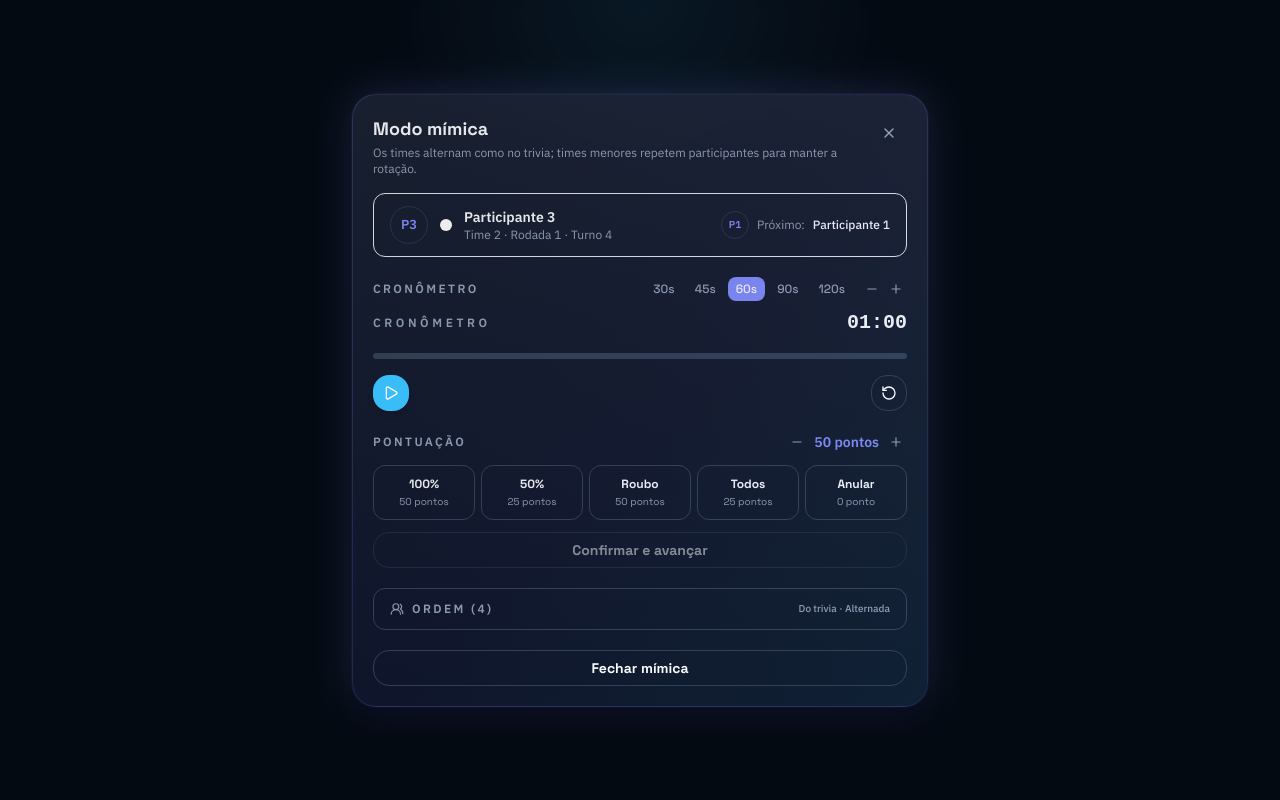
Scenario: MimicaModal › permite escolher claramente entre continuar do trivia e começar do primeiro
Check: the text with test id "mimica-active-participant" reads "Participante 3", box [464,208,556,226]
Click the text "Ordem (4)": (442, 608) [390,600,494,616]
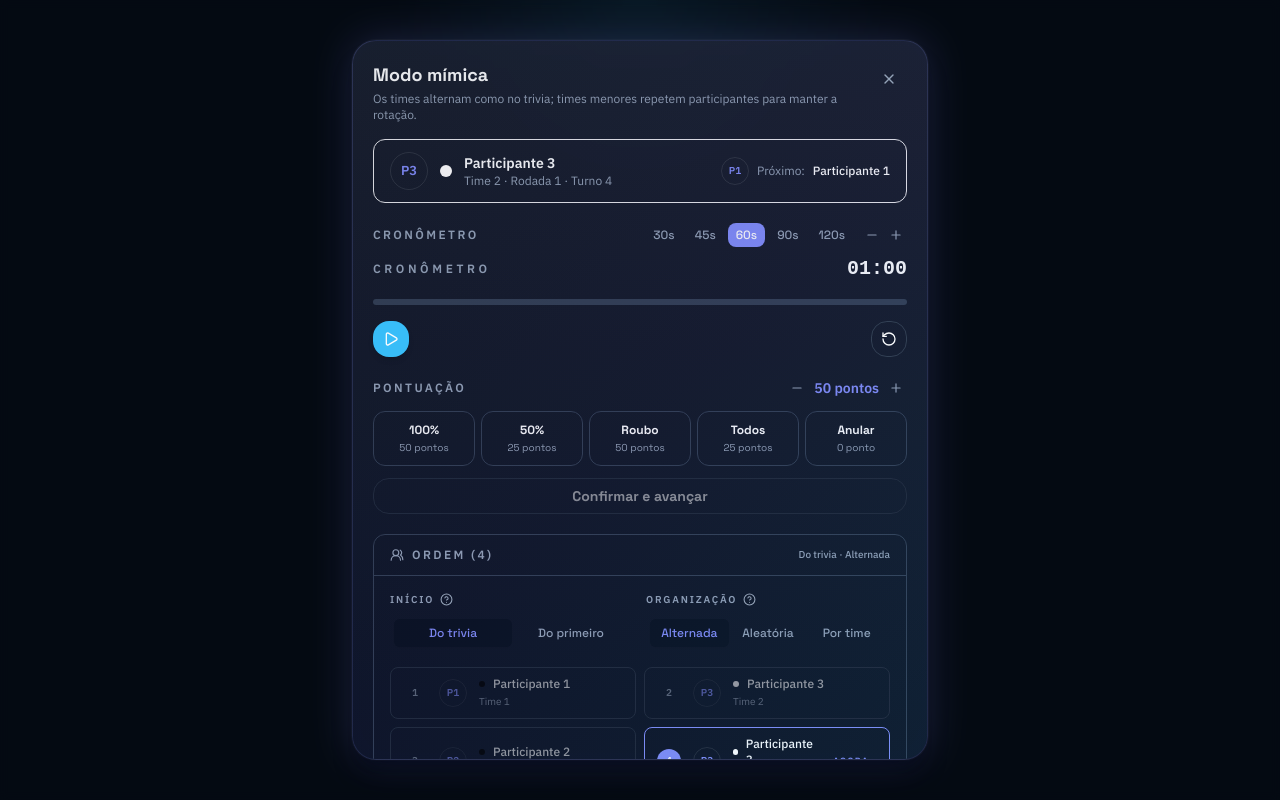
Click the button with aria-label "Começar do primeiro": (571, 633) [512,619,630,647]
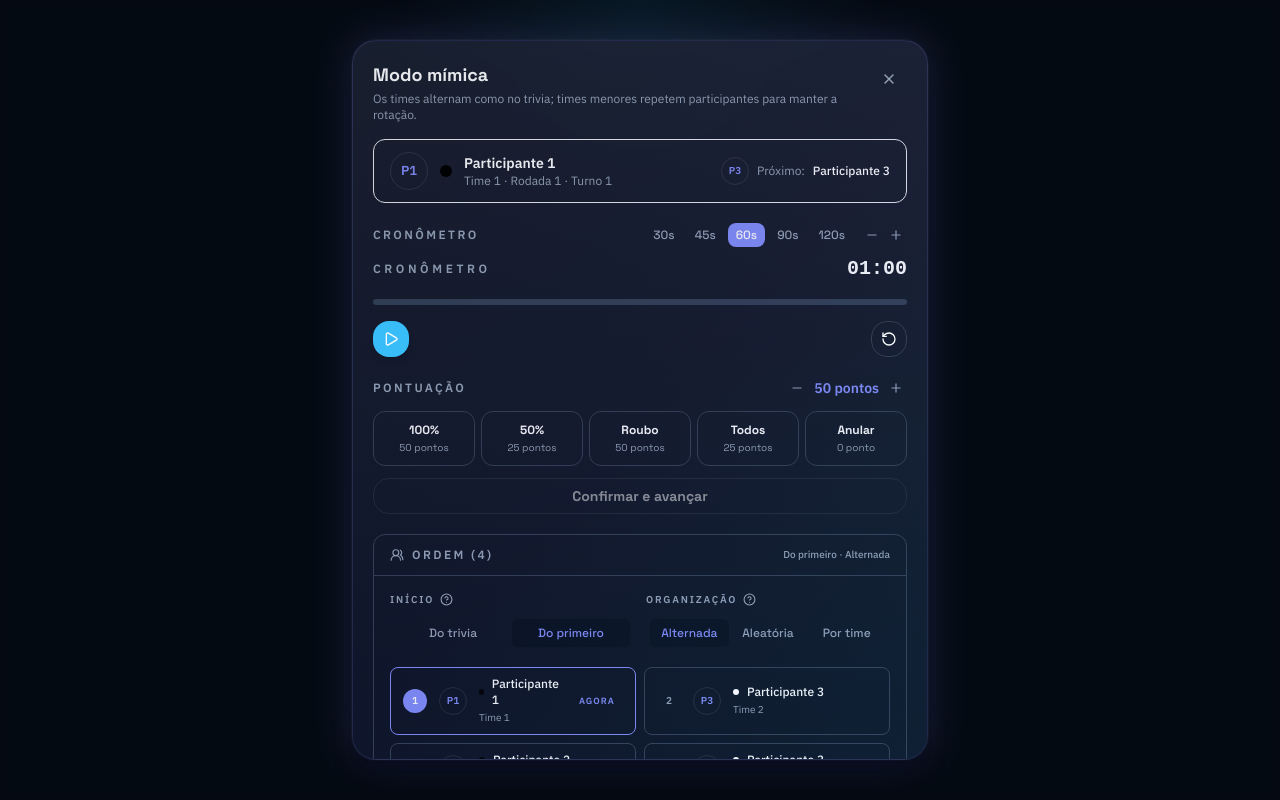
Check: the text with test id "mimica-active-participant" reads "Participante 1", box [464,154,556,172]
Click the button with aria-label "Continuar do trivia": (453, 633) [394,619,512,647]
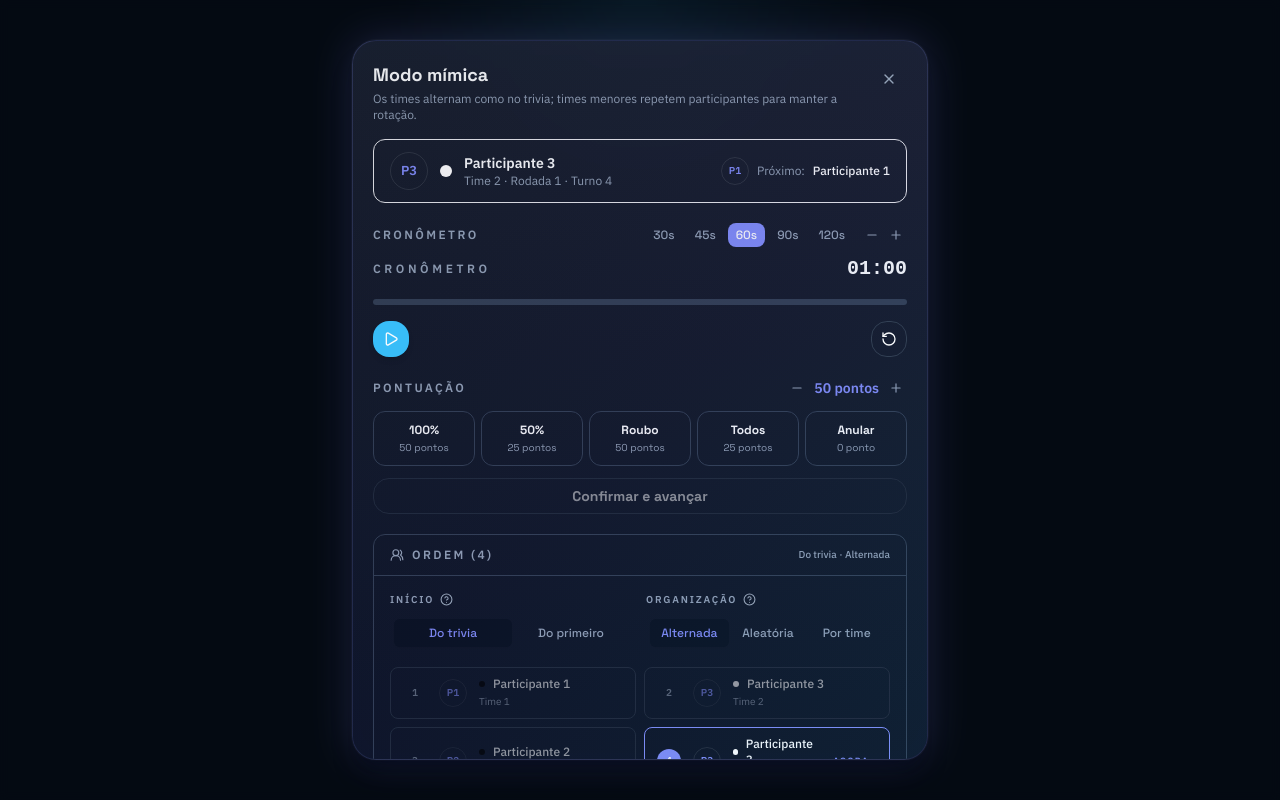
Check: the text with test id "mimica-active-participant" reads "Participante 3", box [464,154,556,172]
